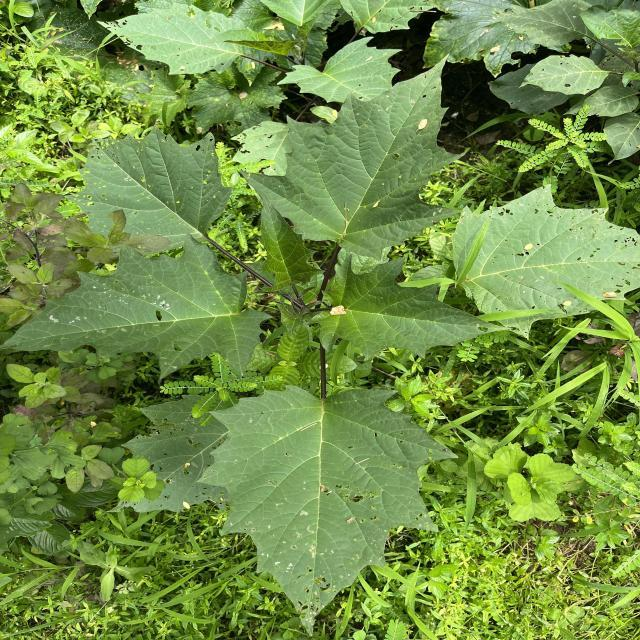Datura metal linn: (193, 381, 460, 640), (237, 50, 468, 263), (0, 229, 276, 378), (450, 182, 640, 342), (302, 252, 515, 362), (63, 122, 235, 256), (95, 1, 248, 78), (255, 188, 328, 294), (516, 52, 612, 96), (201, 25, 303, 58)
